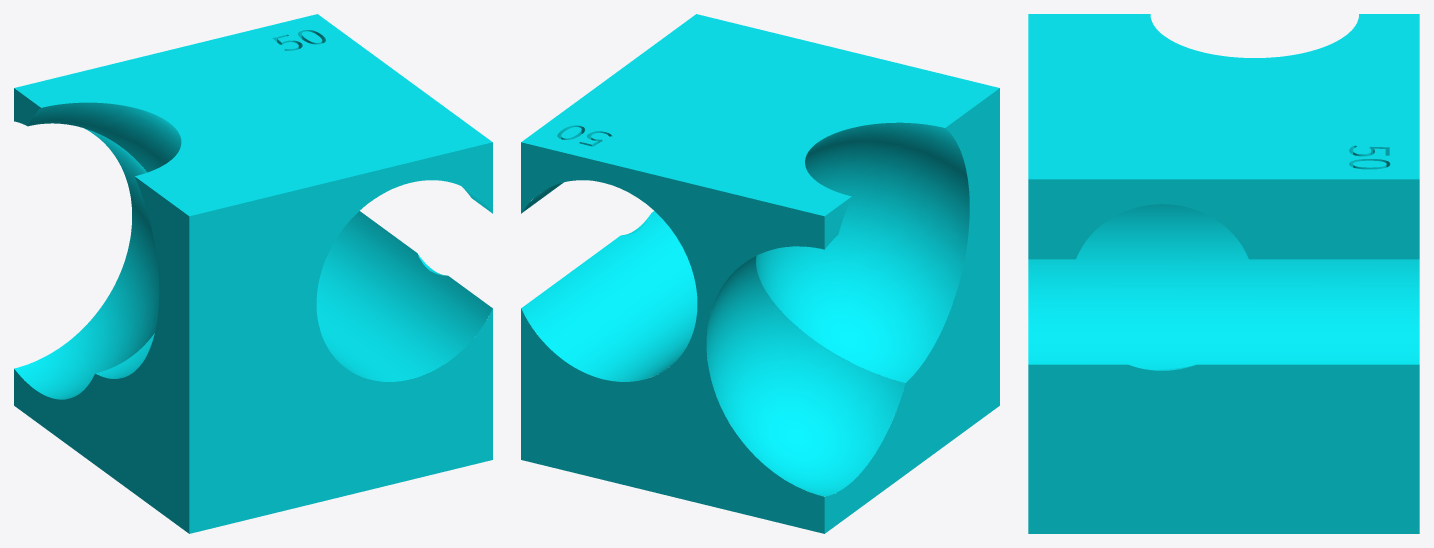
3 views of the same model, side by side, from view 1: azimuth 30°, elevation 25°; view 2: azimuth 150°, elevation 25°; view 3: azimuth 270°, elevation 25° (orthographic). The views are drawn at different scales.
Visible parts, largest first — view 1: 70_vars_w-txt; view 2: 70_vars_w-txt; view 3: 70_vars_w-txt.
Part boxes in pixels (x1,y1,x2,y2): 70_vars_w-txt: (14, 14, 492, 533); 70_vars_w-txt: (521, 14, 999, 533); 70_vars_w-txt: (1028, 14, 1419, 533).
Bounding box in the file's own units: 0.042 × 0.042 × 0.042.
